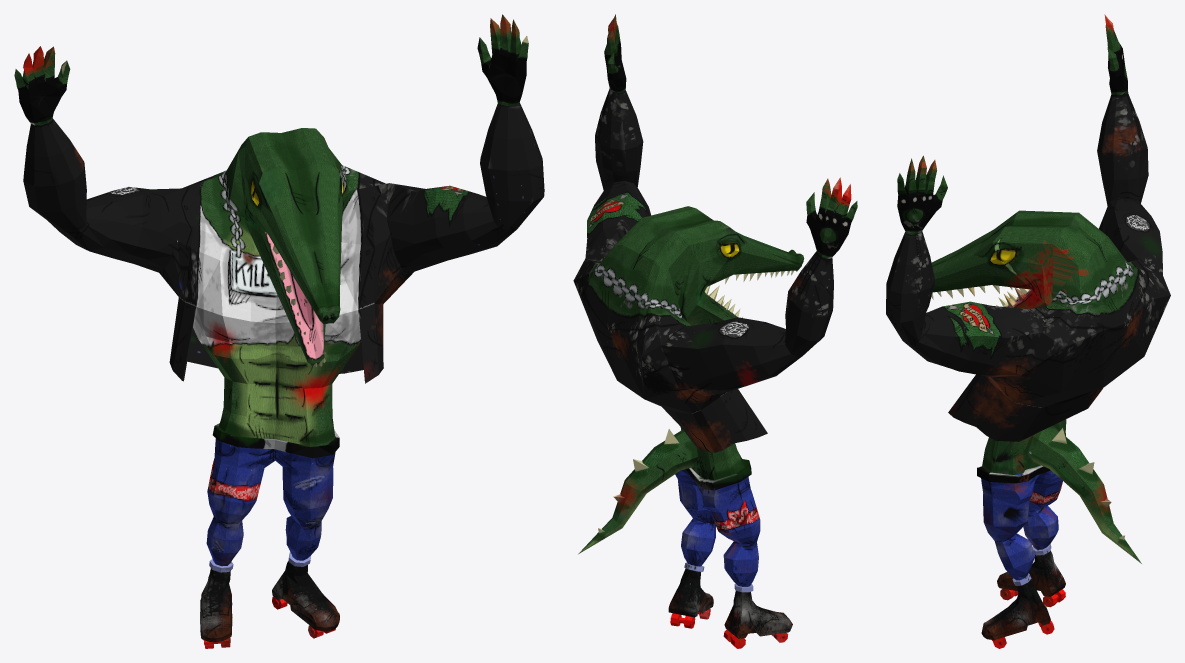
File: cocodrilaBonesSelect_000046.obj
3 views of the same model, side by side, from view 1: azimuth 30°, elevation 25°; view 2: azimuth 150°, elevation 25°; view 3: azimuth 270°, elevation 25° (orthographic). The views are drawn at different scales.
Visible parts, largest first — view 1: Crocodile.002_Cylinder.002; view 2: Crocodile.002_Cylinder.002; view 3: Crocodile.002_Cylinder.002.
Part boxes in pixels (bbox=[...]): Crocodile.002_Cylinder.002: bbox=[14, 14, 544, 648]; Crocodile.002_Cylinder.002: bbox=[573, 14, 857, 648]; Crocodile.002_Cylinder.002: bbox=[886, 14, 1170, 648].
Bounding box in the file's own units: 5.91 × 8.48 × 3.98.
